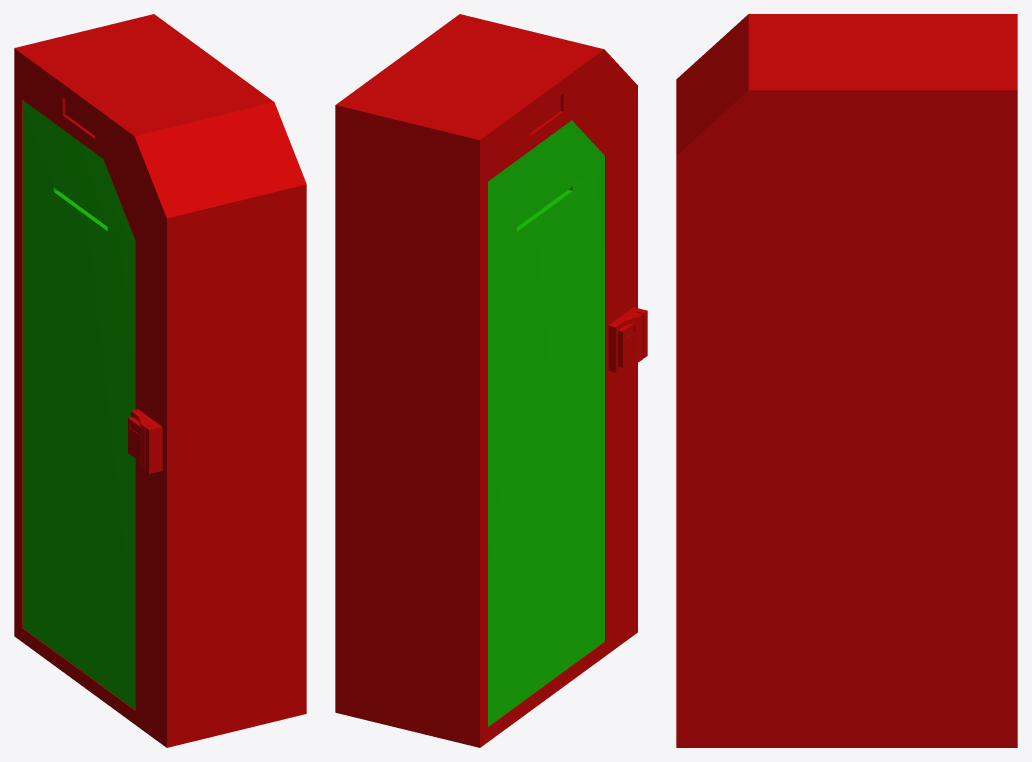
The model's file is casier_LP.FBX.
3 views of the same model, side by side, from view 1: azimuth 30°, elevation 25°; view 2: azimuth 150°, elevation 25°; view 3: azimuth 270°, elevation 25° (orthographic). The views are drawn at different scales.
Visible parts, largest first — view 1: Box001, Object001; view 2: Box001, Object001; view 3: Box001.
Boxes of the visible parts, x1,y1,x2,y2 form: Box001: (14, 14, 306, 747); Object001: (22, 100, 135, 709); Box001: (335, 14, 647, 747); Object001: (488, 120, 604, 726); Box001: (676, 14, 1017, 747).
Bounding box in the file's own units: 54.83 × 201 × 94.48.
